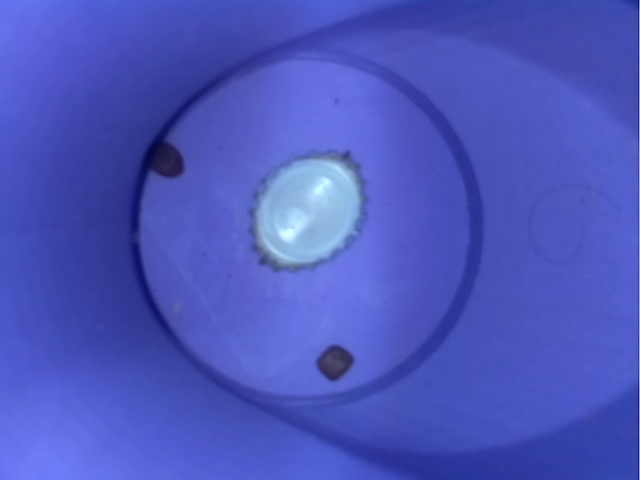capsule: (243, 144, 377, 278)
croquette: (138, 126, 199, 196), (306, 336, 358, 398)
